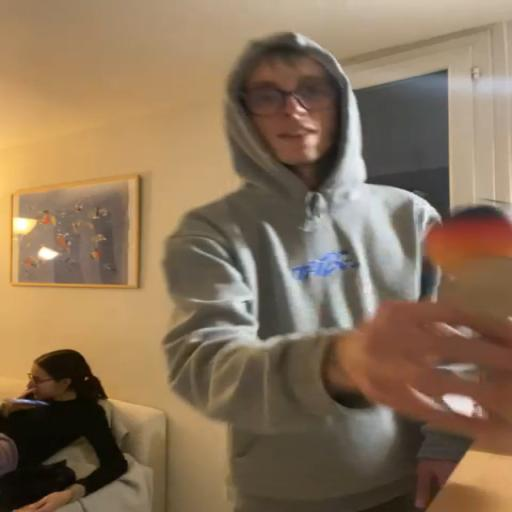kendama_ball: (423, 205, 512, 281)
